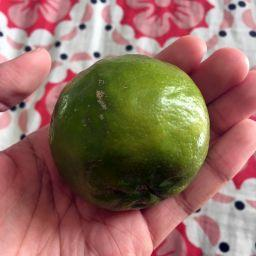Unripe: (51, 53, 208, 211)
